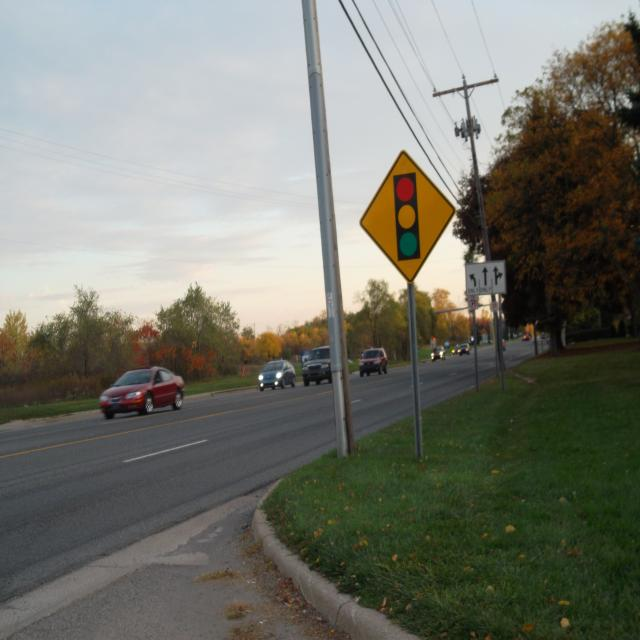regulatory: (464, 260, 506, 296), (467, 296, 480, 312), (490, 301, 500, 313)
warning: (360, 150, 456, 285)
